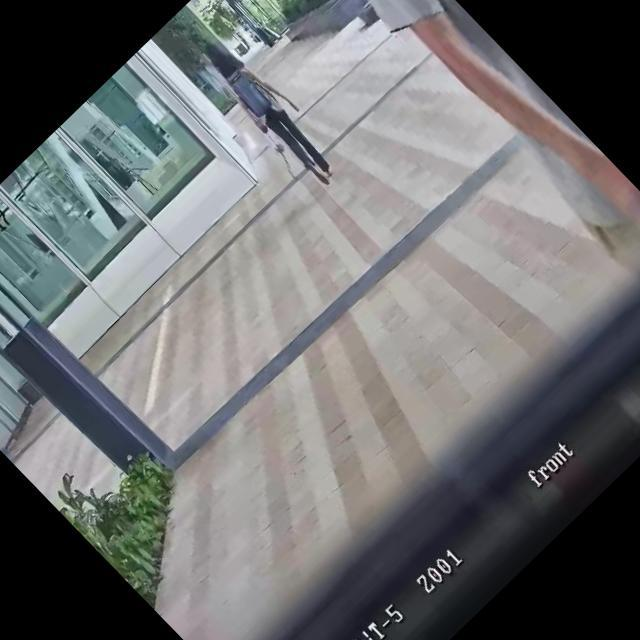person: (279, 0, 640, 277), (196, 31, 353, 192)
